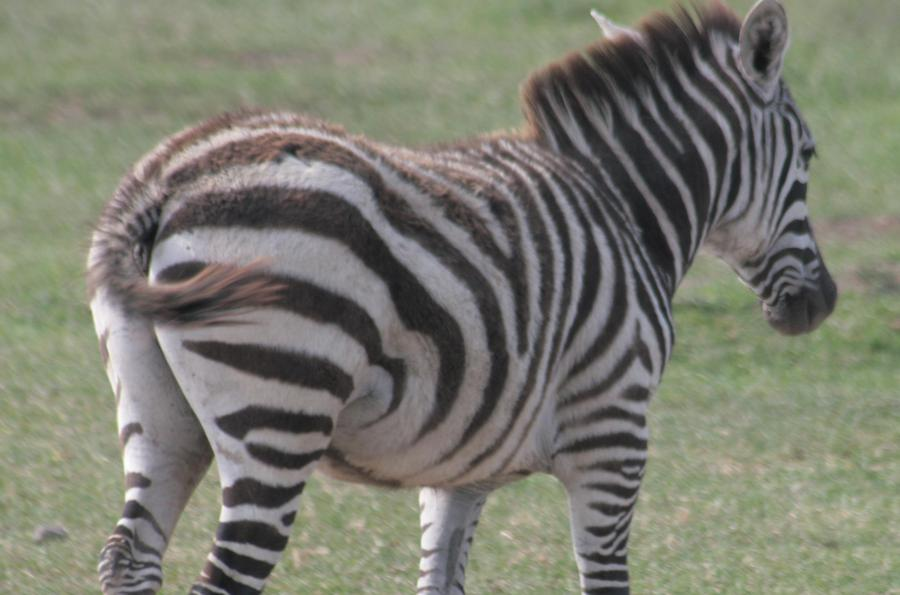zebra_plains: (167, 108, 671, 471)
